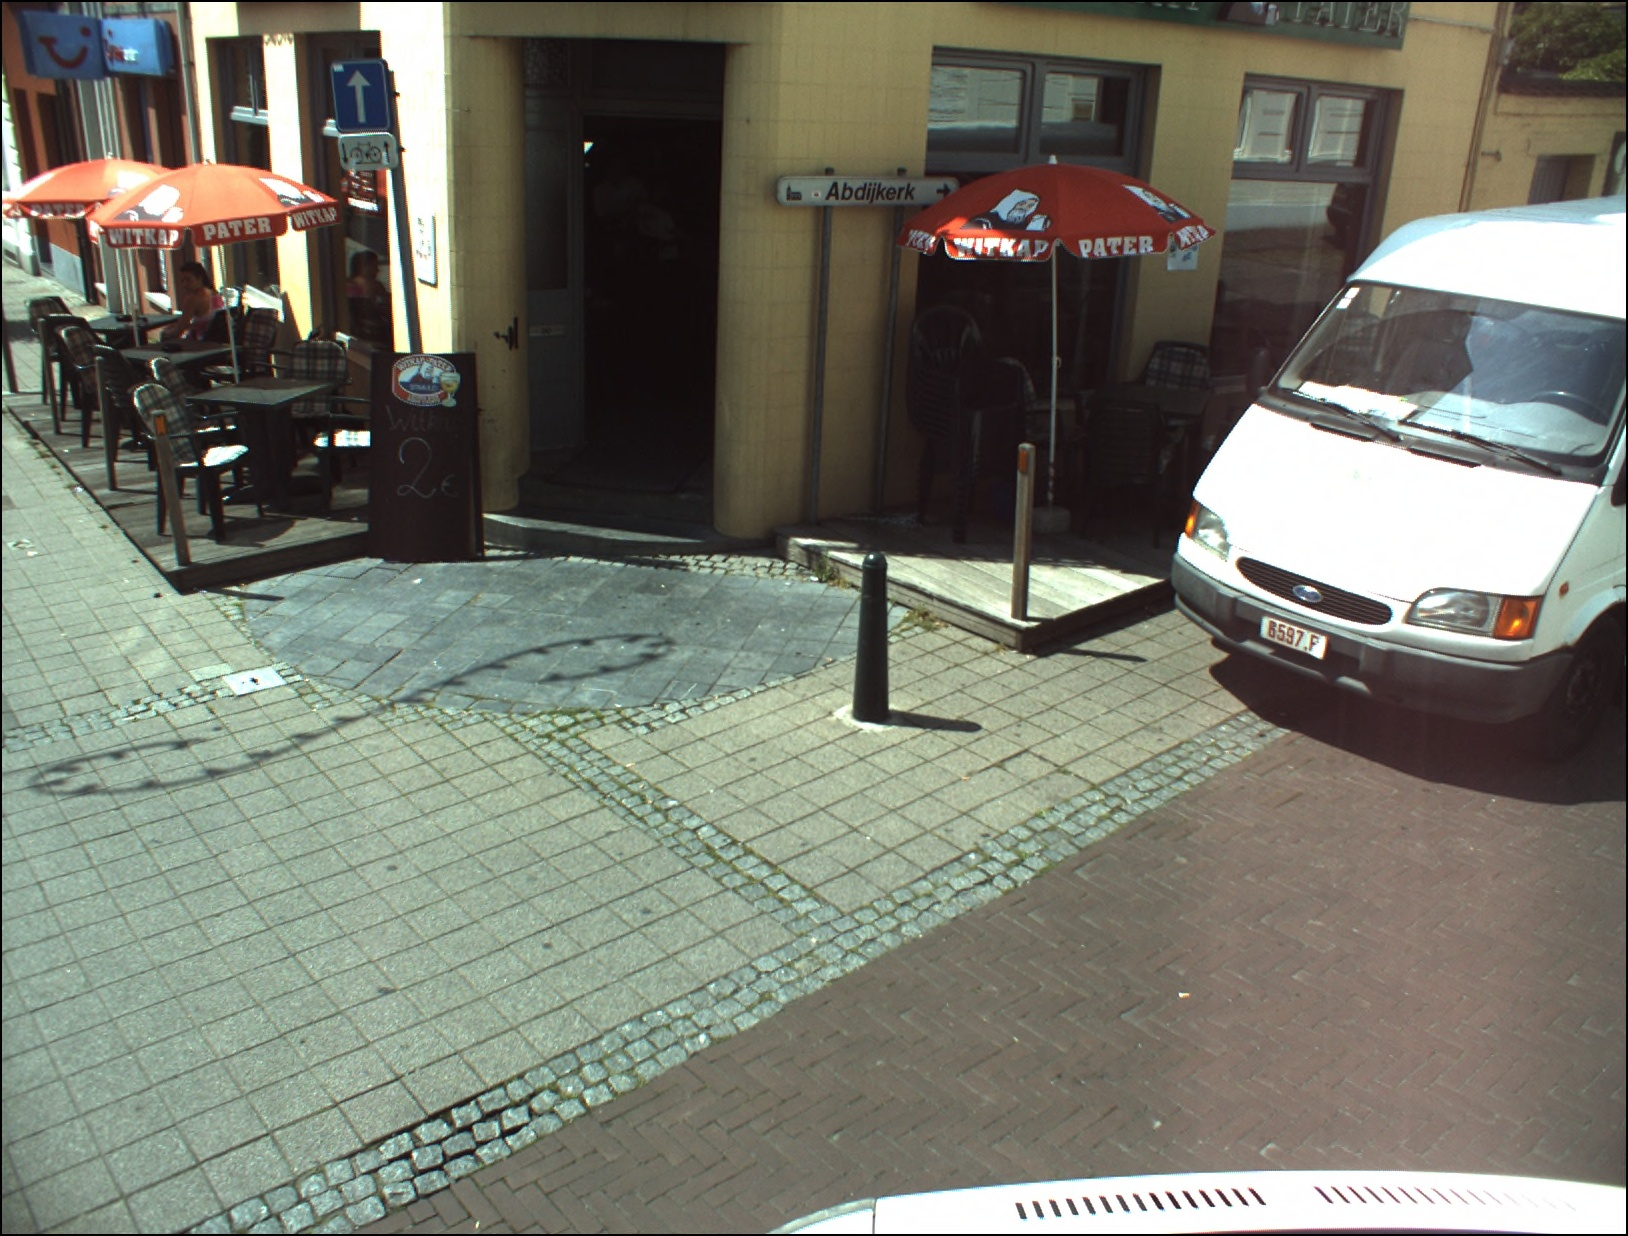oneway: (330, 62, 389, 132)
